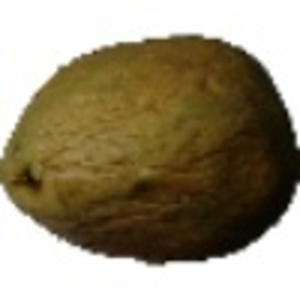mamão: (3, 23, 296, 272)
